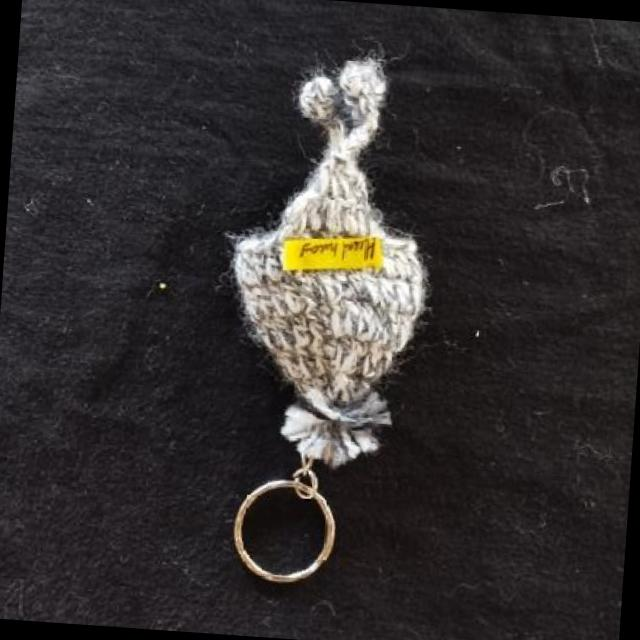Llavero: (213, 44, 446, 474)
